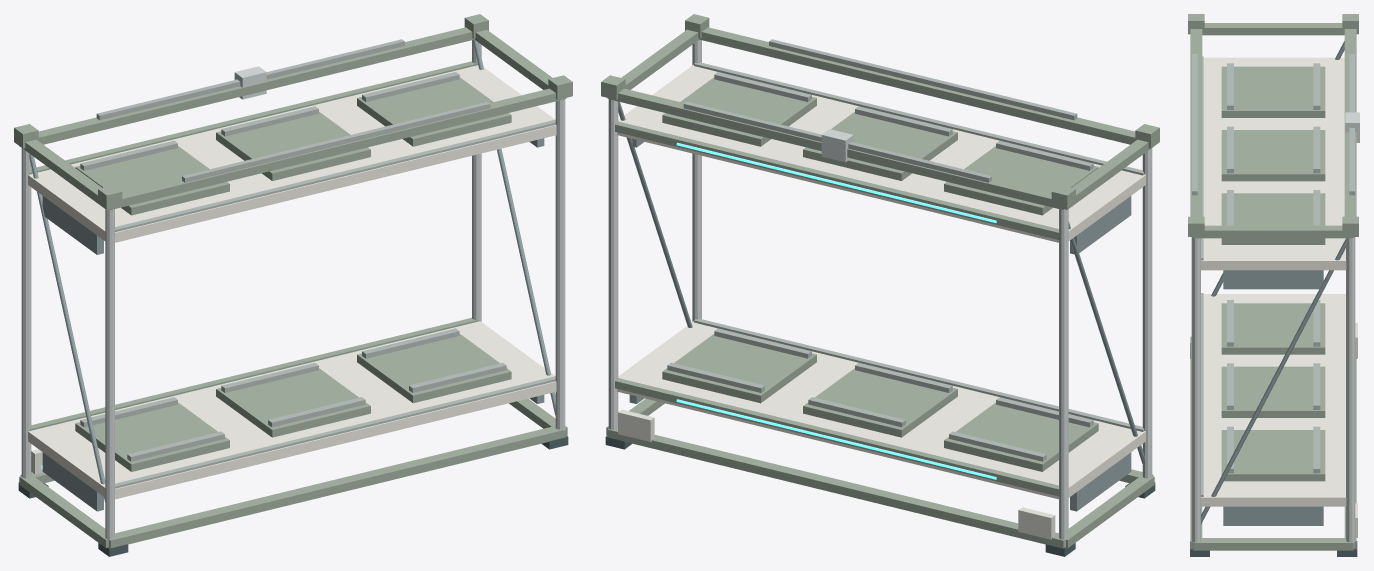
The model's file is s7-e0e1-rm02-mature-double.glb.
3 renders of one model, left to right at view 1: azimuth 30°, elevation 25°; view 2: azimuth 150°, elevation 25°; view 3: azimuth 270°, elevation 25°, orthographic. The views are drawn at different scales.
Parts seen in each view (by area): view 1: tray-load-deck-016, tray-load-deck-022, rack-long-rail-009, reinforced-empty-carrier-041, reinforced-empty-carrier-044, rack-long-rail-012, reinforced-empty-carrier-038, rack-long-rail-013, reinforced-empty-carrier-053, reinforced-empty-carrier-050, reinforced-empty-carrier-047, chrome-vertical-post-006 (+26 smaller); view 2: tray-load-deck-016, tray-load-deck-022, rack-long-rail-008, rack-long-rail-013, reinforced-empty-carrier-041, reinforced-empty-carrier-044, reinforced-empty-carrier-038, rack-long-rail-012, deck-front-lip-017, deck-front-lip-023, reinforced-empty-carrier-053, reinforced-empty-carrier-047 (+30 smaller); view 3: tray-load-deck-016, tray-load-deck-022, reinforced-empty-carrier-050, reinforced-empty-carrier-047, reinforced-empty-carrier-044, reinforced-empty-carrier-038, reinforced-empty-carrier-041, reinforced-empty-carrier-053, chrome-vertical-post-006, chrome-vertical-post-004, rack-side-rail-011, shelf-support-021 (+29 smaller).
Part boxes in pixels (x1=…): tray-load-deck-016: x1=28, y1=321, x2=556, y2=499; tray-load-deck-022: x1=28, y1=65, x2=556, y2=242; rack-long-rail-009: x1=105, y1=426, x2=566, y2=547; reinforced-empty-carrier-041: x1=216, y1=368, x2=370, y2=437; reinforced-empty-carrier-044: x1=357, y1=334, x2=511, y2=403; rack-long-rail-012: x1=38, y1=27, x2=474, y2=144; reinforced-empty-carrier-038: x1=75, y1=402, x2=229, y2=471; rack-long-rail-013: x1=110, y1=88, x2=566, y2=209; reinforced-empty-carrier-053: x1=357, y1=77, x2=511, y2=146; reinforced-empty-carrier-050: x1=216, y1=112, x2=370, y2=180; reinforced-empty-carrier-047: x1=75, y1=146, x2=229, y2=215; chrome-vertical-post-006: x1=555, y1=99, x2=565, y2=429; tray-load-deck-016: x1=617, y1=321, x2=1145, y2=499; tray-load-deck-022: x1=617, y1=64, x2=1145, y2=242; rack-long-rail-008: x1=607, y1=428, x2=1068, y2=547; rack-long-rail-013: x1=699, y1=27, x2=1135, y2=144; reinforced-empty-carrier-041: x1=803, y1=368, x2=957, y2=437; reinforced-empty-carrier-044: x1=662, y1=334, x2=816, y2=403; reinforced-empty-carrier-038: x1=944, y1=402, x2=1098, y2=471; rack-long-rail-012: x1=607, y1=88, x2=1063, y2=209; deck-front-lip-017: x1=615, y1=378, x2=1059, y2=496; deck-front-lip-023: x1=615, y1=121, x2=1059, y2=239; reinforced-empty-carrier-053: x1=662, y1=77, x2=816, y2=146; reinforced-empty-carrier-047: x1=944, y1=146, x2=1098, y2=215; tray-load-deck-016: x1=1200, y1=294, x2=1346, y2=506; tray-load-deck-022: x1=1200, y1=57, x2=1346, y2=270; reinforced-empty-carrier-050: x1=1221, y1=130, x2=1325, y2=181; reinforced-empty-carrier-047: x1=1221, y1=66, x2=1325, y2=117; reinforced-empty-carrier-044: x1=1221, y1=430, x2=1325, y2=481; reinforced-empty-carrier-038: x1=1221, y1=303, x2=1325, y2=354; reinforced-empty-carrier-041: x1=1221, y1=366, x2=1325, y2=417; reinforced-empty-carrier-053: x1=1221, y1=193, x2=1325, y2=244; chrome-vertical-post-006: x1=1191, y1=237, x2=1200, y2=548; chrome-vertical-post-004: x1=1346, y1=237, x2=1355, y2=548; rack-side-rail-011: x1=1193, y1=538, x2=1353, y2=550; shelf-support-021: x1=1223, y1=506, x2=1323, y2=525.
Size of the model in its own units: 2.7 by 2.02 by 0.935.
